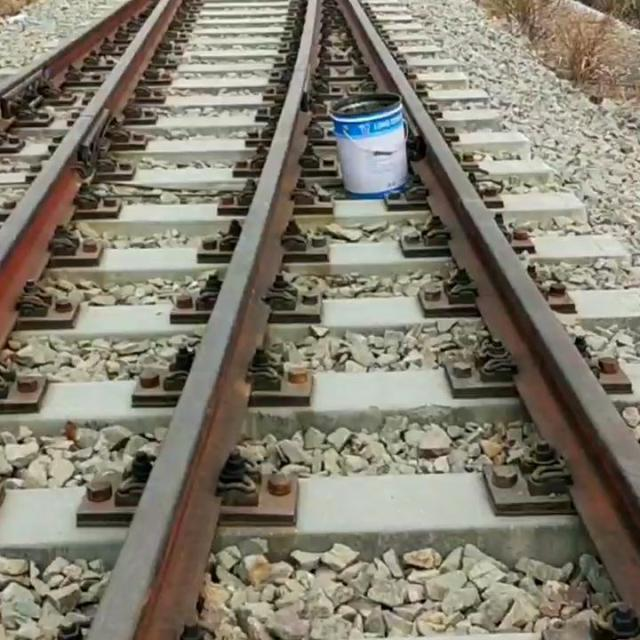danger: (320, 74, 436, 210)
rail: (340, 0, 640, 602), (88, 0, 321, 640), (0, 0, 181, 346), (1, 0, 153, 117)
